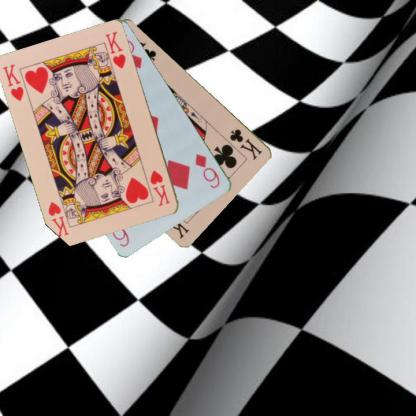6d: (192, 151, 222, 189)
Kc: (228, 126, 263, 162)
Kh: (0, 61, 26, 103), (147, 168, 171, 208)
